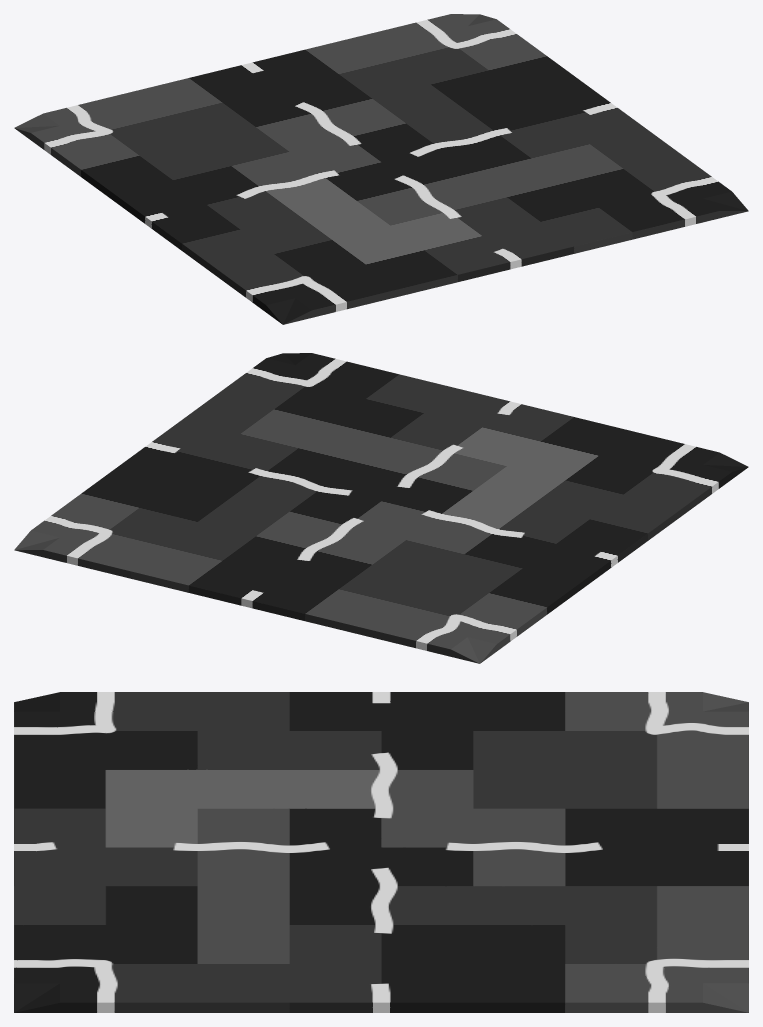
Rendered from TrackIntersection.fbx.
3 renders of one model, top to bottom at view 1: azimuth 30°, elevation 25°; view 2: azimuth 150°, elevation 25°; view 3: azimuth 270°, elevation 25°, orthographic. The views are drawn at different scales.
Parts seen in each view (by area): view 1: TrackIntersection; view 2: TrackIntersection; view 3: TrackIntersection.
Boxes of the visible parts, x1,y1,x2,y2 form: TrackIntersection: (14,14,748,324); TrackIntersection: (14,353,748,663); TrackIntersection: (14,692,748,1012).
Size of the model in its own units: 66 by 1 by 66.
